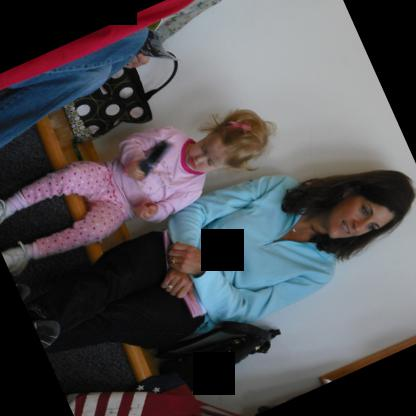handbag: (60, 59, 177, 143), (155, 320, 281, 388), (63, 381, 241, 416)
